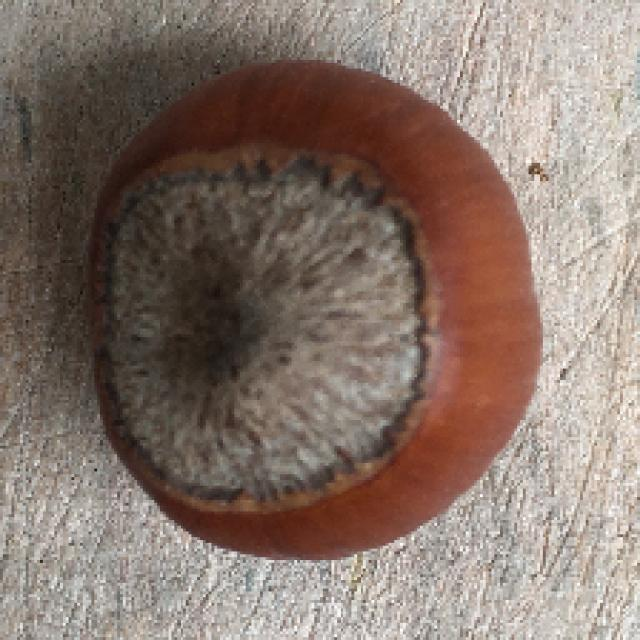qualityHazelnut: (83, 59, 545, 568)
